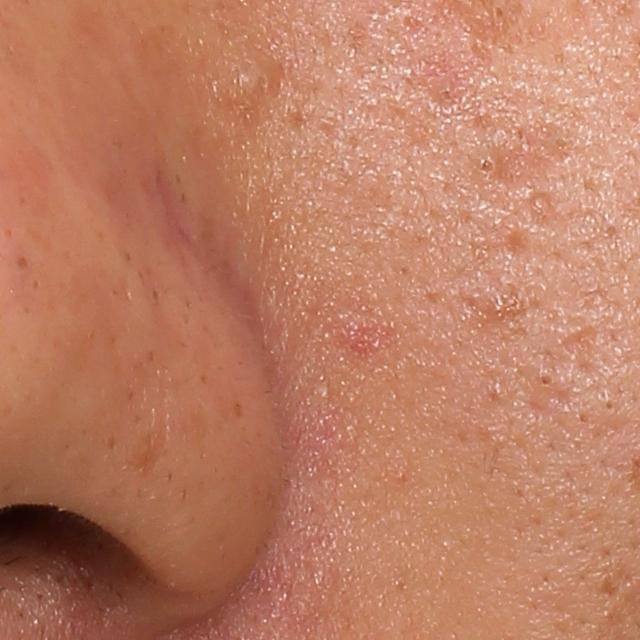atrophic_scar: (563, 324, 616, 377), (505, 226, 536, 261)
comedo: (239, 53, 285, 102), (471, 143, 502, 179), (531, 369, 557, 394), (599, 395, 618, 416), (493, 2, 509, 21), (15, 254, 31, 270)
